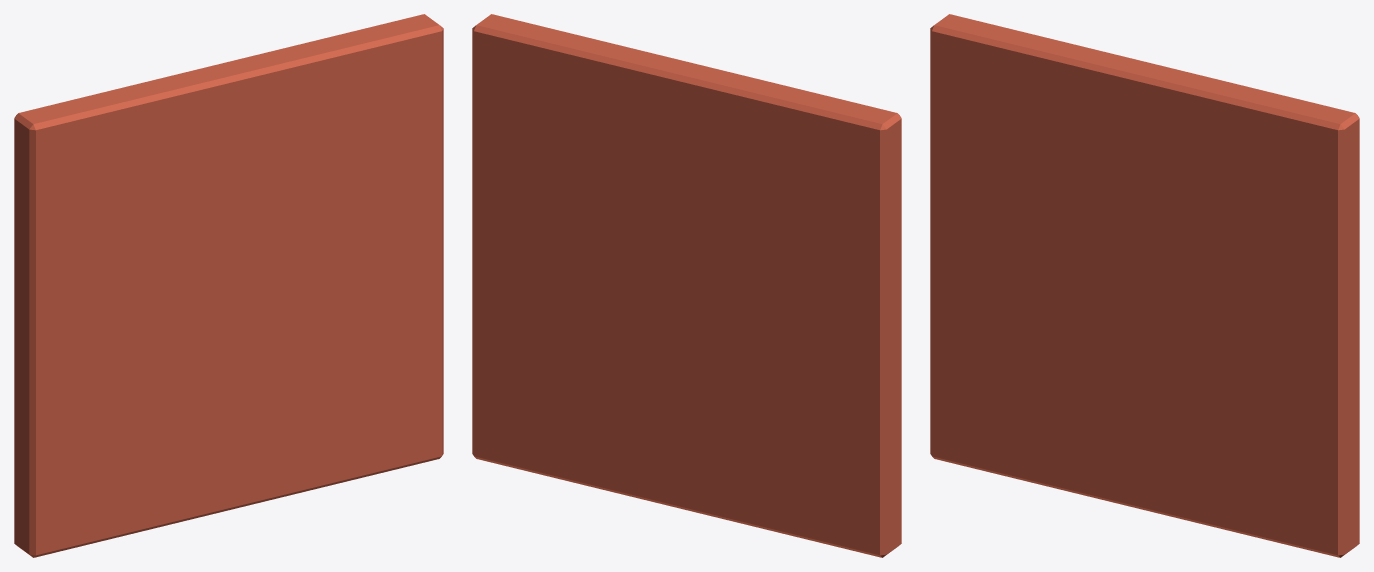
File: Kit_Brick_Wall.fbx
The picture shows the model from 3 angles, left to right: view 1: azimuth 30°, elevation 25°; view 2: azimuth 150°, elevation 25°; view 3: azimuth 330°, elevation 25°; orthographic projection.
Parts seen in each view (by area): view 1: Kit_Brick_Wall_LOD0; view 2: Kit_Brick_Wall_LOD0; view 3: Kit_Brick_Wall_LOD0.
Part boxes in pixels (x1,y1,x2,y2): Kit_Brick_Wall_LOD0: (14,14,443,557); Kit_Brick_Wall_LOD0: (472,14,901,557); Kit_Brick_Wall_LOD0: (930,14,1359,557).
Size of what is drawn, in the model's own units: 3 by 3 by 0.25.
1 material, 1 textured.
